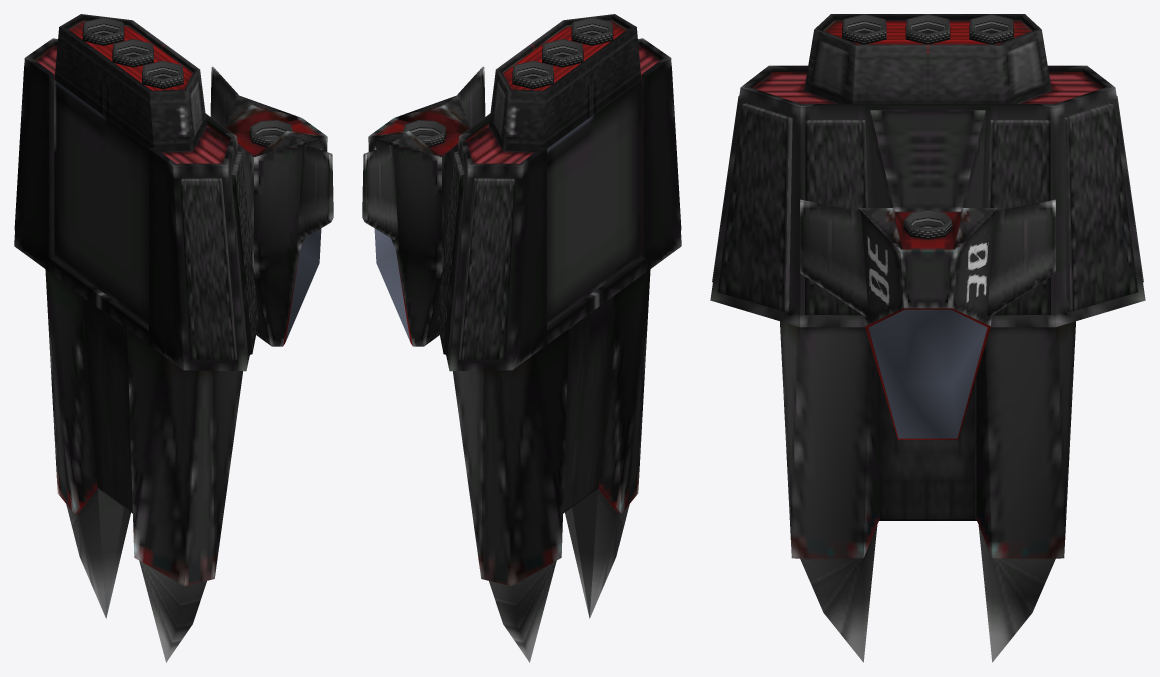
File: BlackBull.obj
3 views of the same model, side by side, from view 1: azimuth 30°, elevation 25°; view 2: azimuth 150°, elevation 25°; view 3: azimuth 270°, elevation 25° (orthographic). The views are drawn at different scales.
Size of the model in its own units: 1.5 by 3.94 by 2.44.
Materials: 1 (1 with a texture image).
